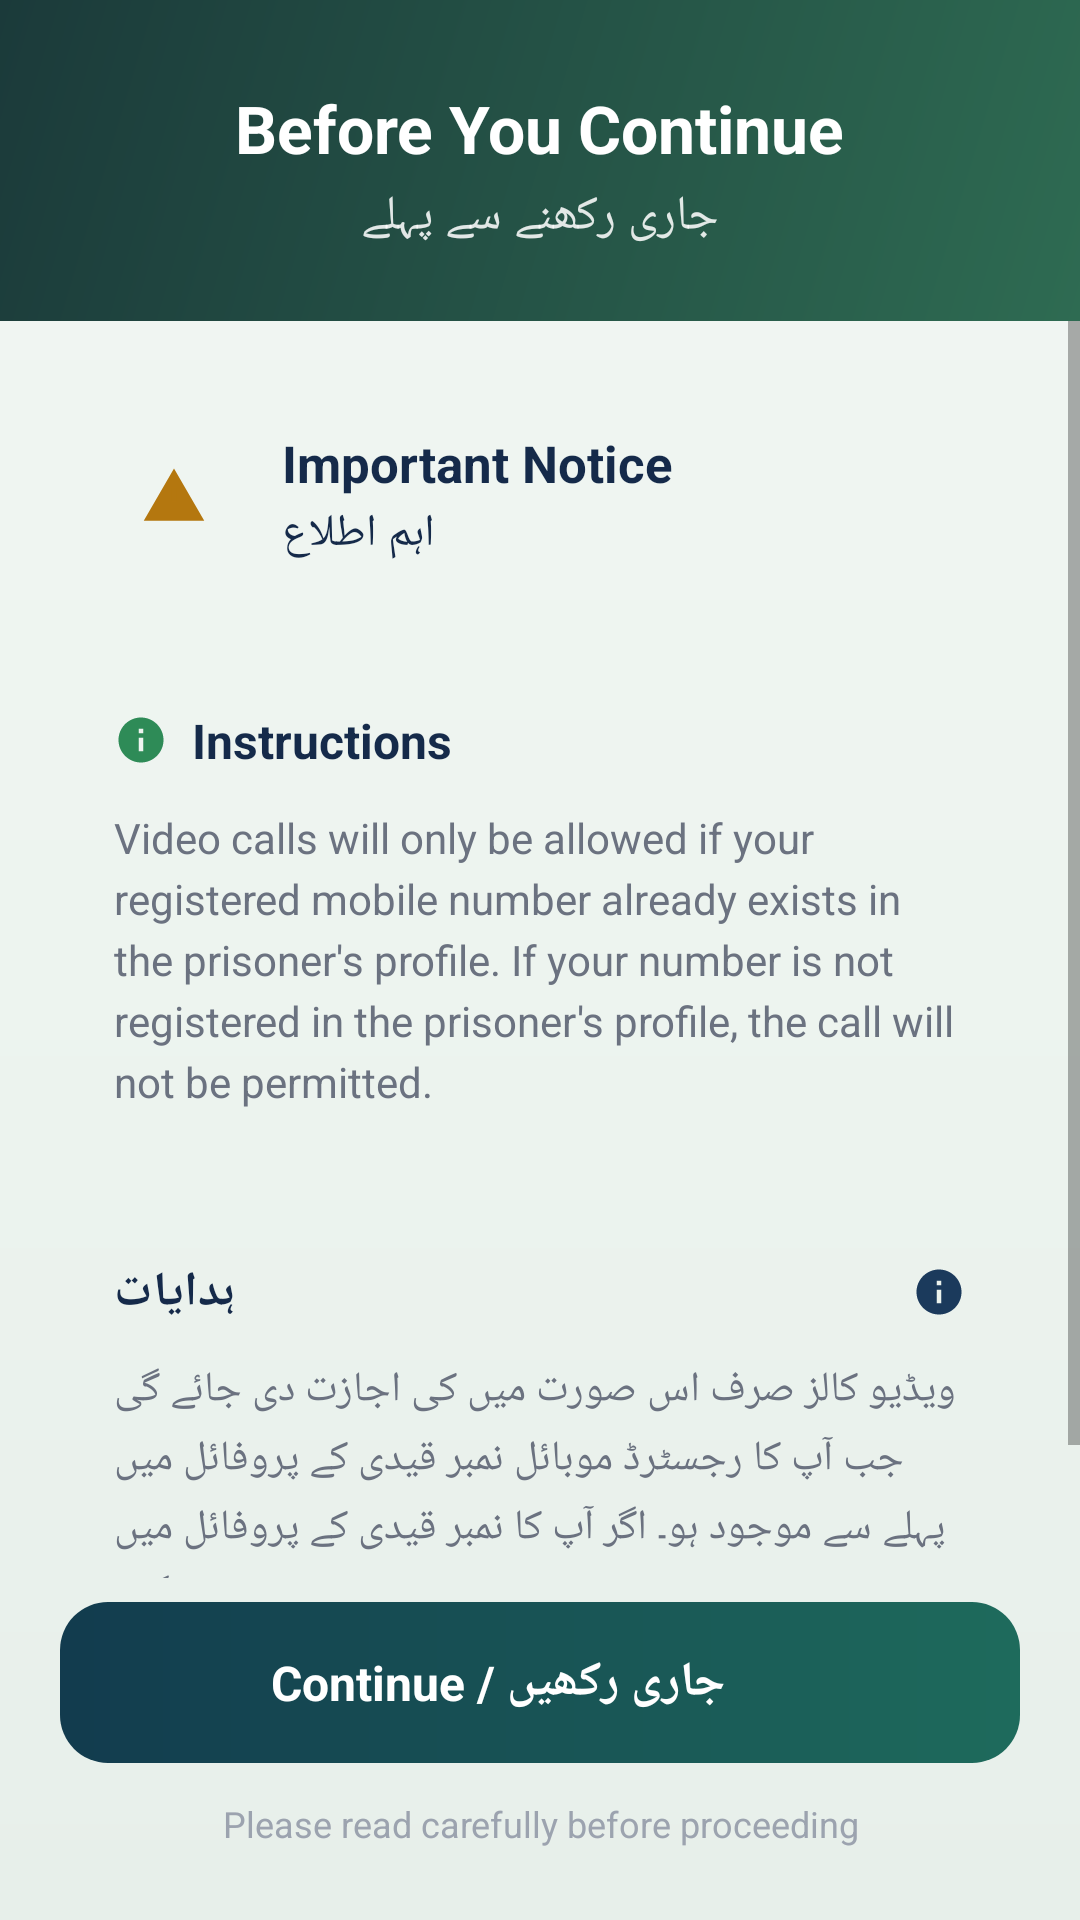

Where icons sit on this 1080*1920 app screen, as (x1, y1, x2, y2):
info: (118, 717, 164, 763), (916, 1269, 962, 1315)
